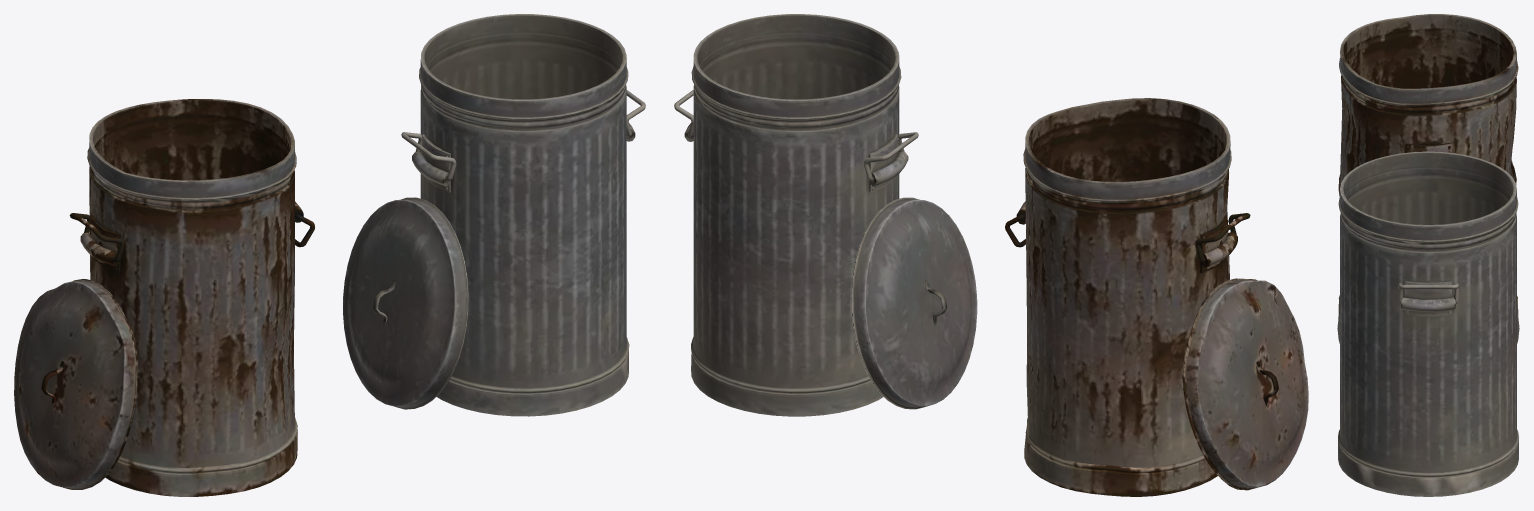
File: metal_trash_can.glb
3 renders of one model, left to right at view 1: azimuth 30°, elevation 25°; view 2: azimuth 150°, elevation 25°; view 3: azimuth 270°, elevation 25°, orthographic. The views are drawn at different scales.
Visible parts, largest first — view 1: metal_trash_can_handle_left, metal_trash_can_rust; view 2: metal_trash_can_handle_left, metal_trash_can_rust; view 3: metal_trash_can_handle_left, metal_trash_can_rust.
Part boxes in pixels (x1,y1,x2,y2): metal_trash_can_handle_left: (343,14,645,416); metal_trash_can_rust: (14,99,314,496); metal_trash_can_handle_left: (674,14,977,416); metal_trash_can_rust: (1005,98,1308,496); metal_trash_can_handle_left: (1337,151,1519,496); metal_trash_can_rust: (1338,14,1518,317).
Bounding box in the file's own units: 1.78 × 0.9062 × 0.5543.
2 materials, 2 textured.
